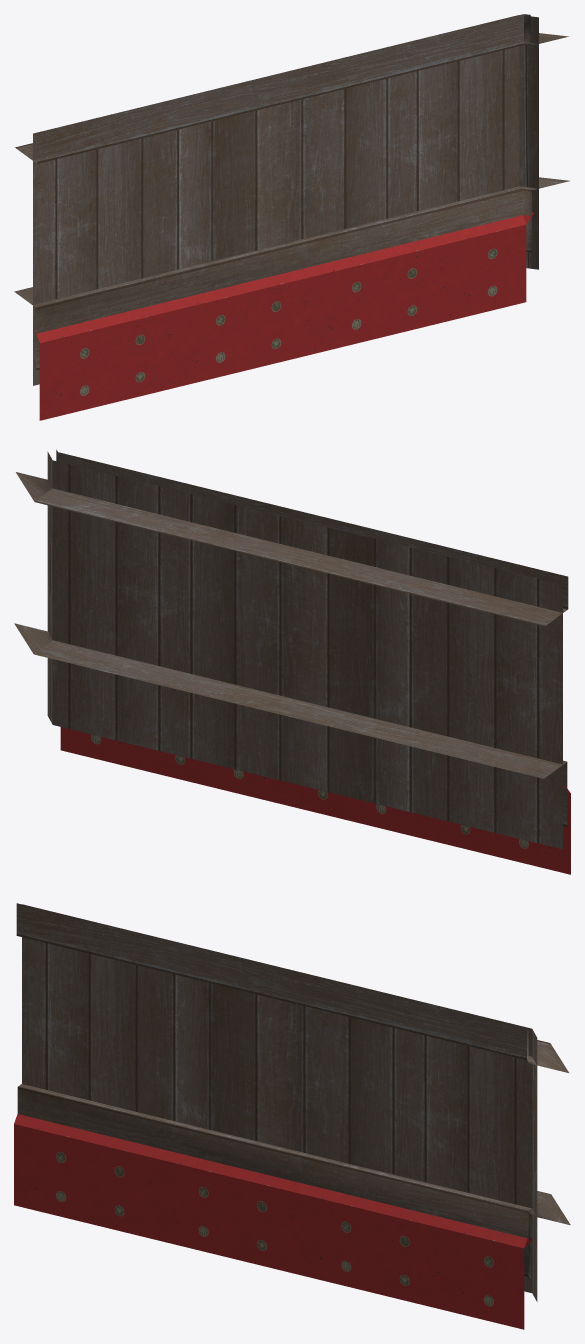
Rendered from Ob_BuildingBaseWallCorner_RC.fbx.
The picture shows the model from 3 angles, top to bottom: view 1: azimuth 30°, elevation 25°; view 2: azimuth 150°, elevation 25°; view 3: azimuth 330°, elevation 25°; orthographic projection. The views are drawn at different scales.
Visible parts, largest first — view 1: Ob_BuildingBaseWallCorner_RC; view 2: Ob_BuildingBaseWallCorner_RC; view 3: Ob_BuildingBaseWallCorner_RC.
Boxes of the visible parts, x1=… form: Ob_BuildingBaseWallCorner_RC: x1=14, y1=14, x2=569, y2=420; Ob_BuildingBaseWallCorner_RC: x1=14, y1=449, x2=570, y2=874; Ob_BuildingBaseWallCorner_RC: x1=14, y1=903, x2=570, y2=1329.
Bounding box in the file's own units: 1335 × 687 × 113.
